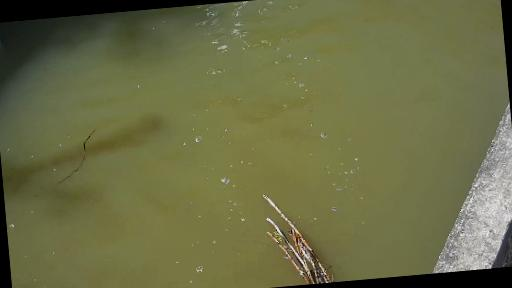twig: (252, 186, 361, 288), (38, 126, 104, 194)
